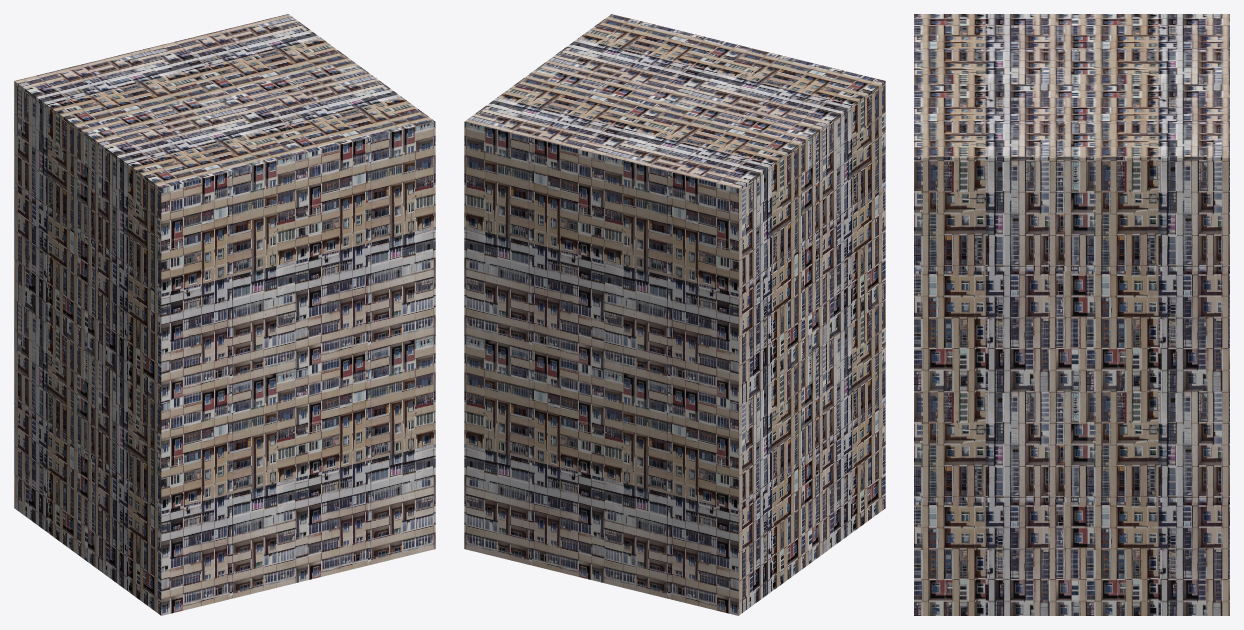
Rendered from bld_grey.glb.
3 views of the same model, side by side, from view 1: azimuth 30°, elevation 25°; view 2: azimuth 150°, elevation 25°; view 3: azimuth 270°, elevation 25° (orthographic). The views are drawn at different scales.
Parts seen in each view (by area): view 1: grey_31; view 2: grey_31; view 3: grey_31.
Boxes of the visible parts, x1,y1,x2,y2 form: grey_31: (14,14,435,615); grey_31: (464,14,885,615); grey_31: (914,14,1229,615).
Size of the model in its own units: 56.06 by 83.47 by 52.13.
6 materials, 6 textured.
